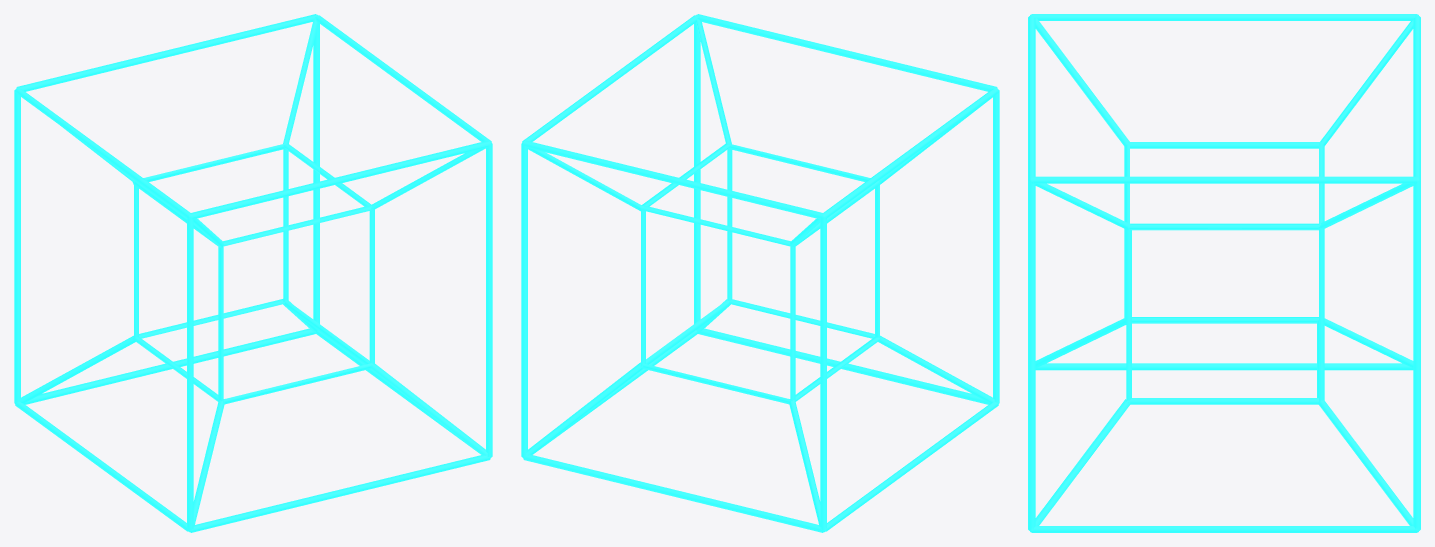
Rendered from simpletesseract.glb.
3 views of the same model, side by side, from view 1: azimuth 30°, elevation 25°; view 2: azimuth 150°, elevation 25°; view 3: azimuth 270°, elevation 25° (orthographic). The views are drawn at different scales.
Visible parts, largest first — view 1: Atom_Array.2; view 2: Atom_Array.2; view 3: Atom_Array.2.
Part boxes in pixels (x1,y1,x2,y2): Atom_Array.2: (14,14,492,532); Atom_Array.2: (521,14,999,532); Atom_Array.2: (1028,14,1420,532).
Size of what is drawn, in the model's own units: 3.5 by 3.5 by 3.5.
1 material, 1 textured.
